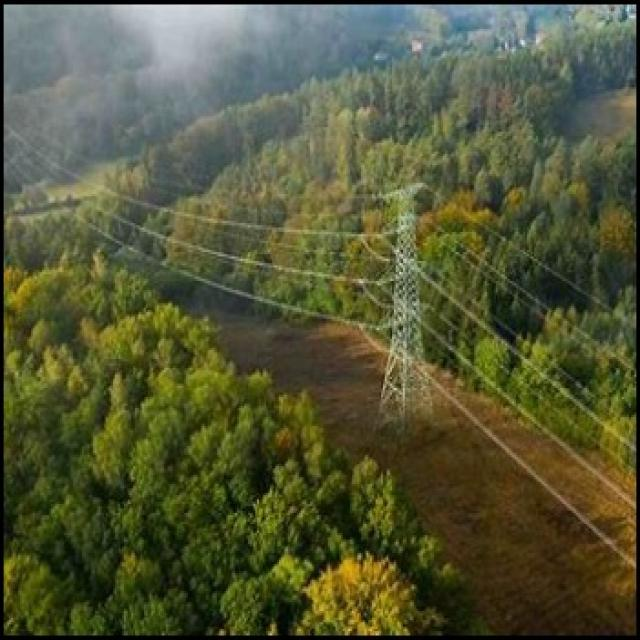utility poles: (366, 155, 447, 451)
